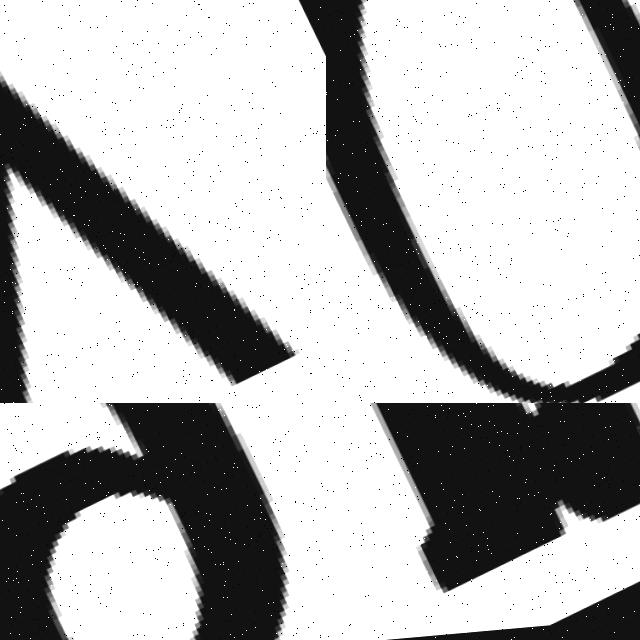0: (326, 0, 640, 403)
9: (0, 403, 326, 640)
R: (326, 403, 640, 632)
Y: (0, 0, 305, 403)
